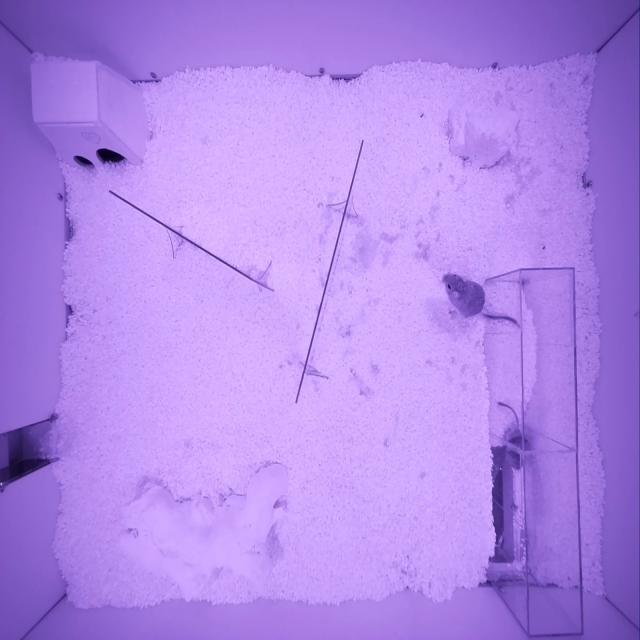pup_fluffy: (445, 273, 485, 318)
pup_h_stripe: (505, 427, 529, 470)
